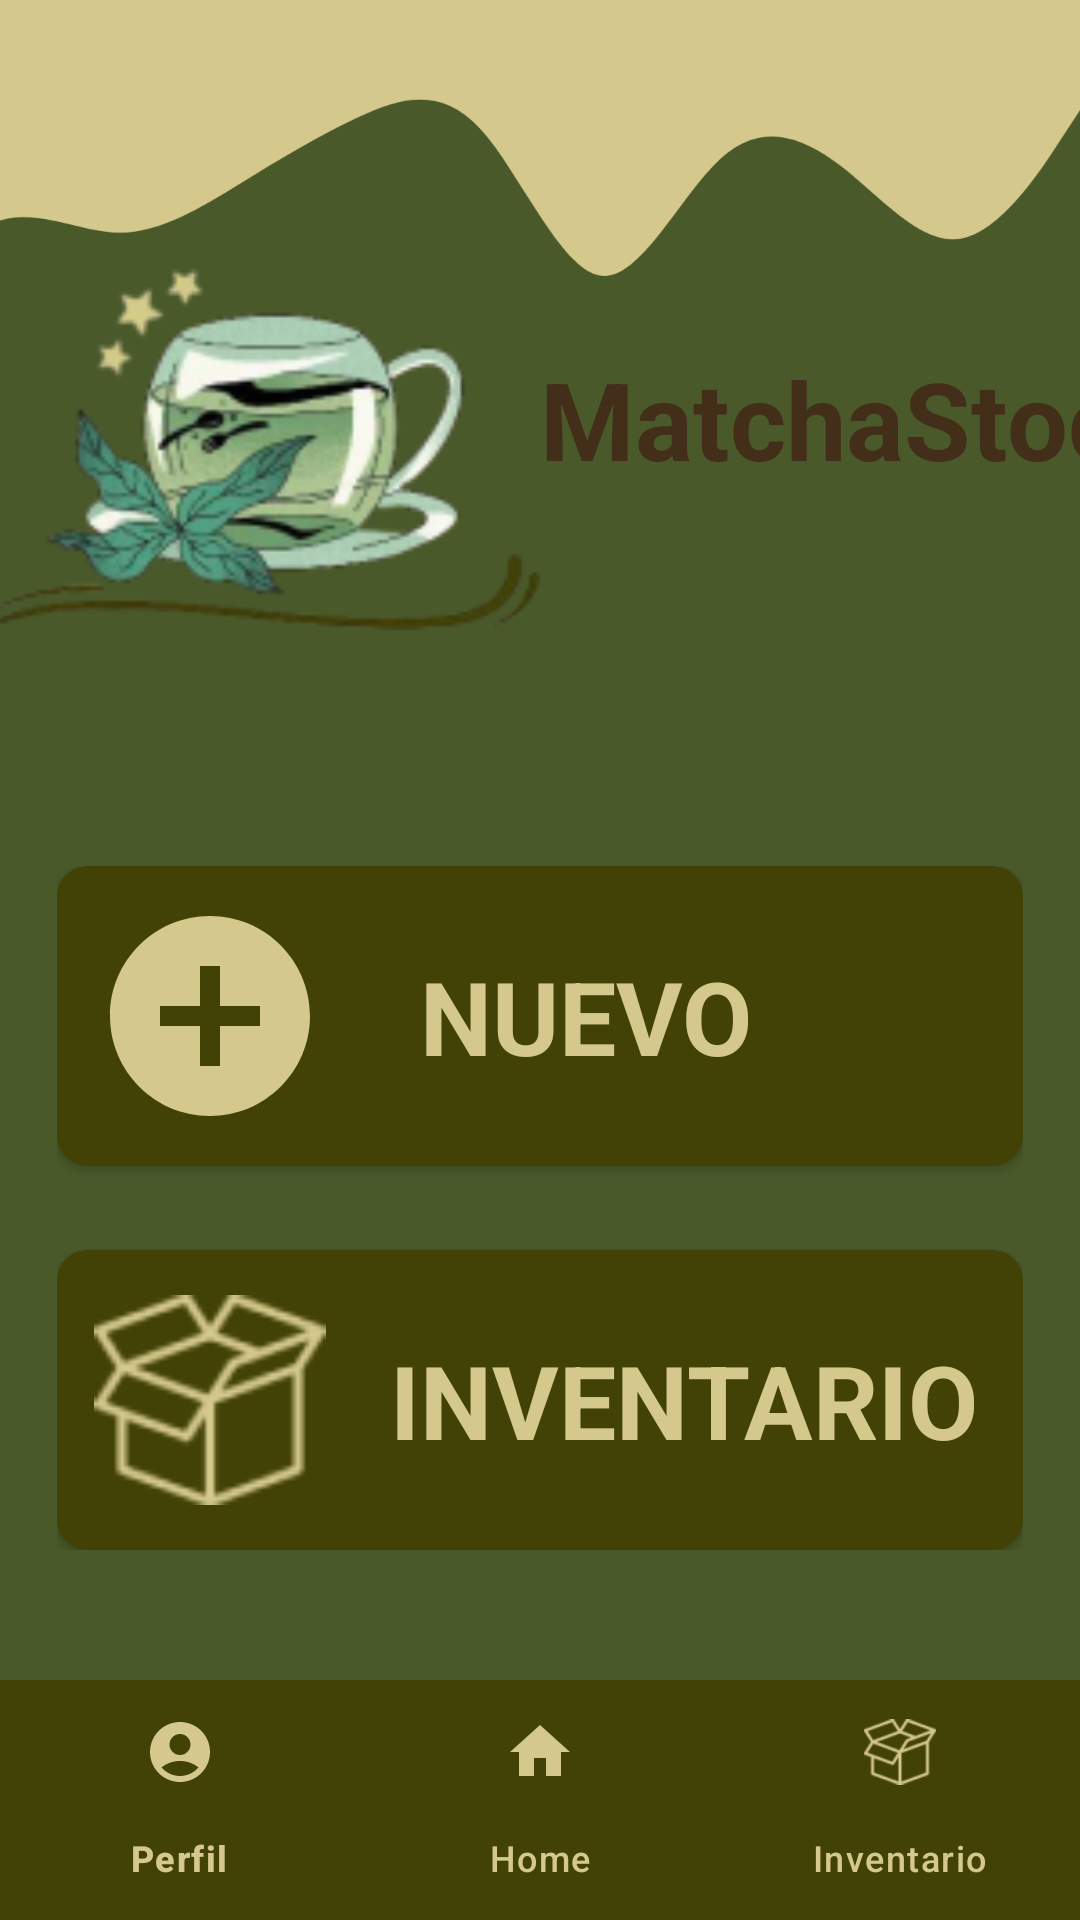

Locate icon controls on the screen. Image size 1080x1920, boxes as detection(x1, y1, x2, y2).
add circle: detection(110, 916, 310, 1116)
caja: detection(94, 1295, 326, 1505)
